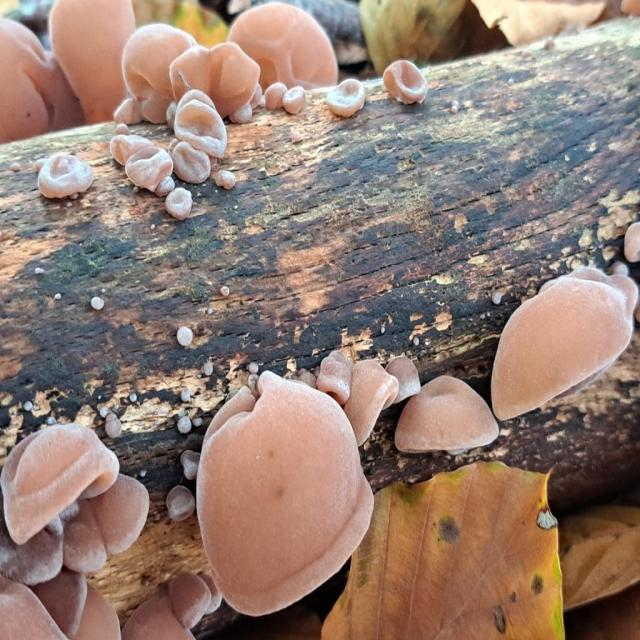Fase Muda: (113, 22, 199, 124), (170, 41, 262, 122), (341, 362, 400, 447), (174, 89, 227, 158), (382, 45, 436, 111), (125, 144, 176, 196), (38, 154, 93, 196), (326, 69, 366, 121), (169, 140, 212, 184), (317, 351, 352, 404), (110, 134, 154, 164), (282, 86, 309, 114), (264, 82, 290, 111)
Matang: (196, 371, 374, 618), (489, 264, 640, 422), (0, 424, 120, 544), (63, 473, 150, 574), (396, 373, 500, 452), (31, 564, 89, 639), (0, 518, 65, 582), (170, 572, 212, 631), (386, 357, 421, 404)
primordia: (164, 187, 197, 225), (166, 483, 196, 523), (212, 162, 238, 200), (181, 449, 203, 480), (86, 294, 110, 312), (106, 412, 122, 439), (218, 282, 240, 299), (177, 325, 193, 347), (178, 417, 193, 434), (36, 156, 49, 171), (116, 124, 130, 136), (291, 130, 303, 143), (9, 162, 20, 170), (54, 293, 61, 301)
